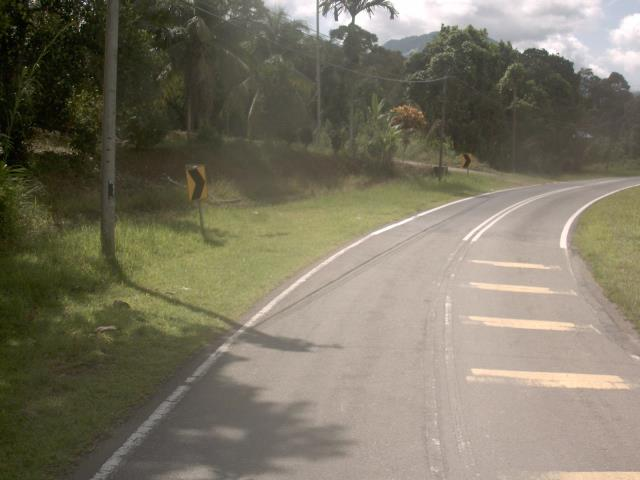traffic_sign: (178, 155, 214, 209)
